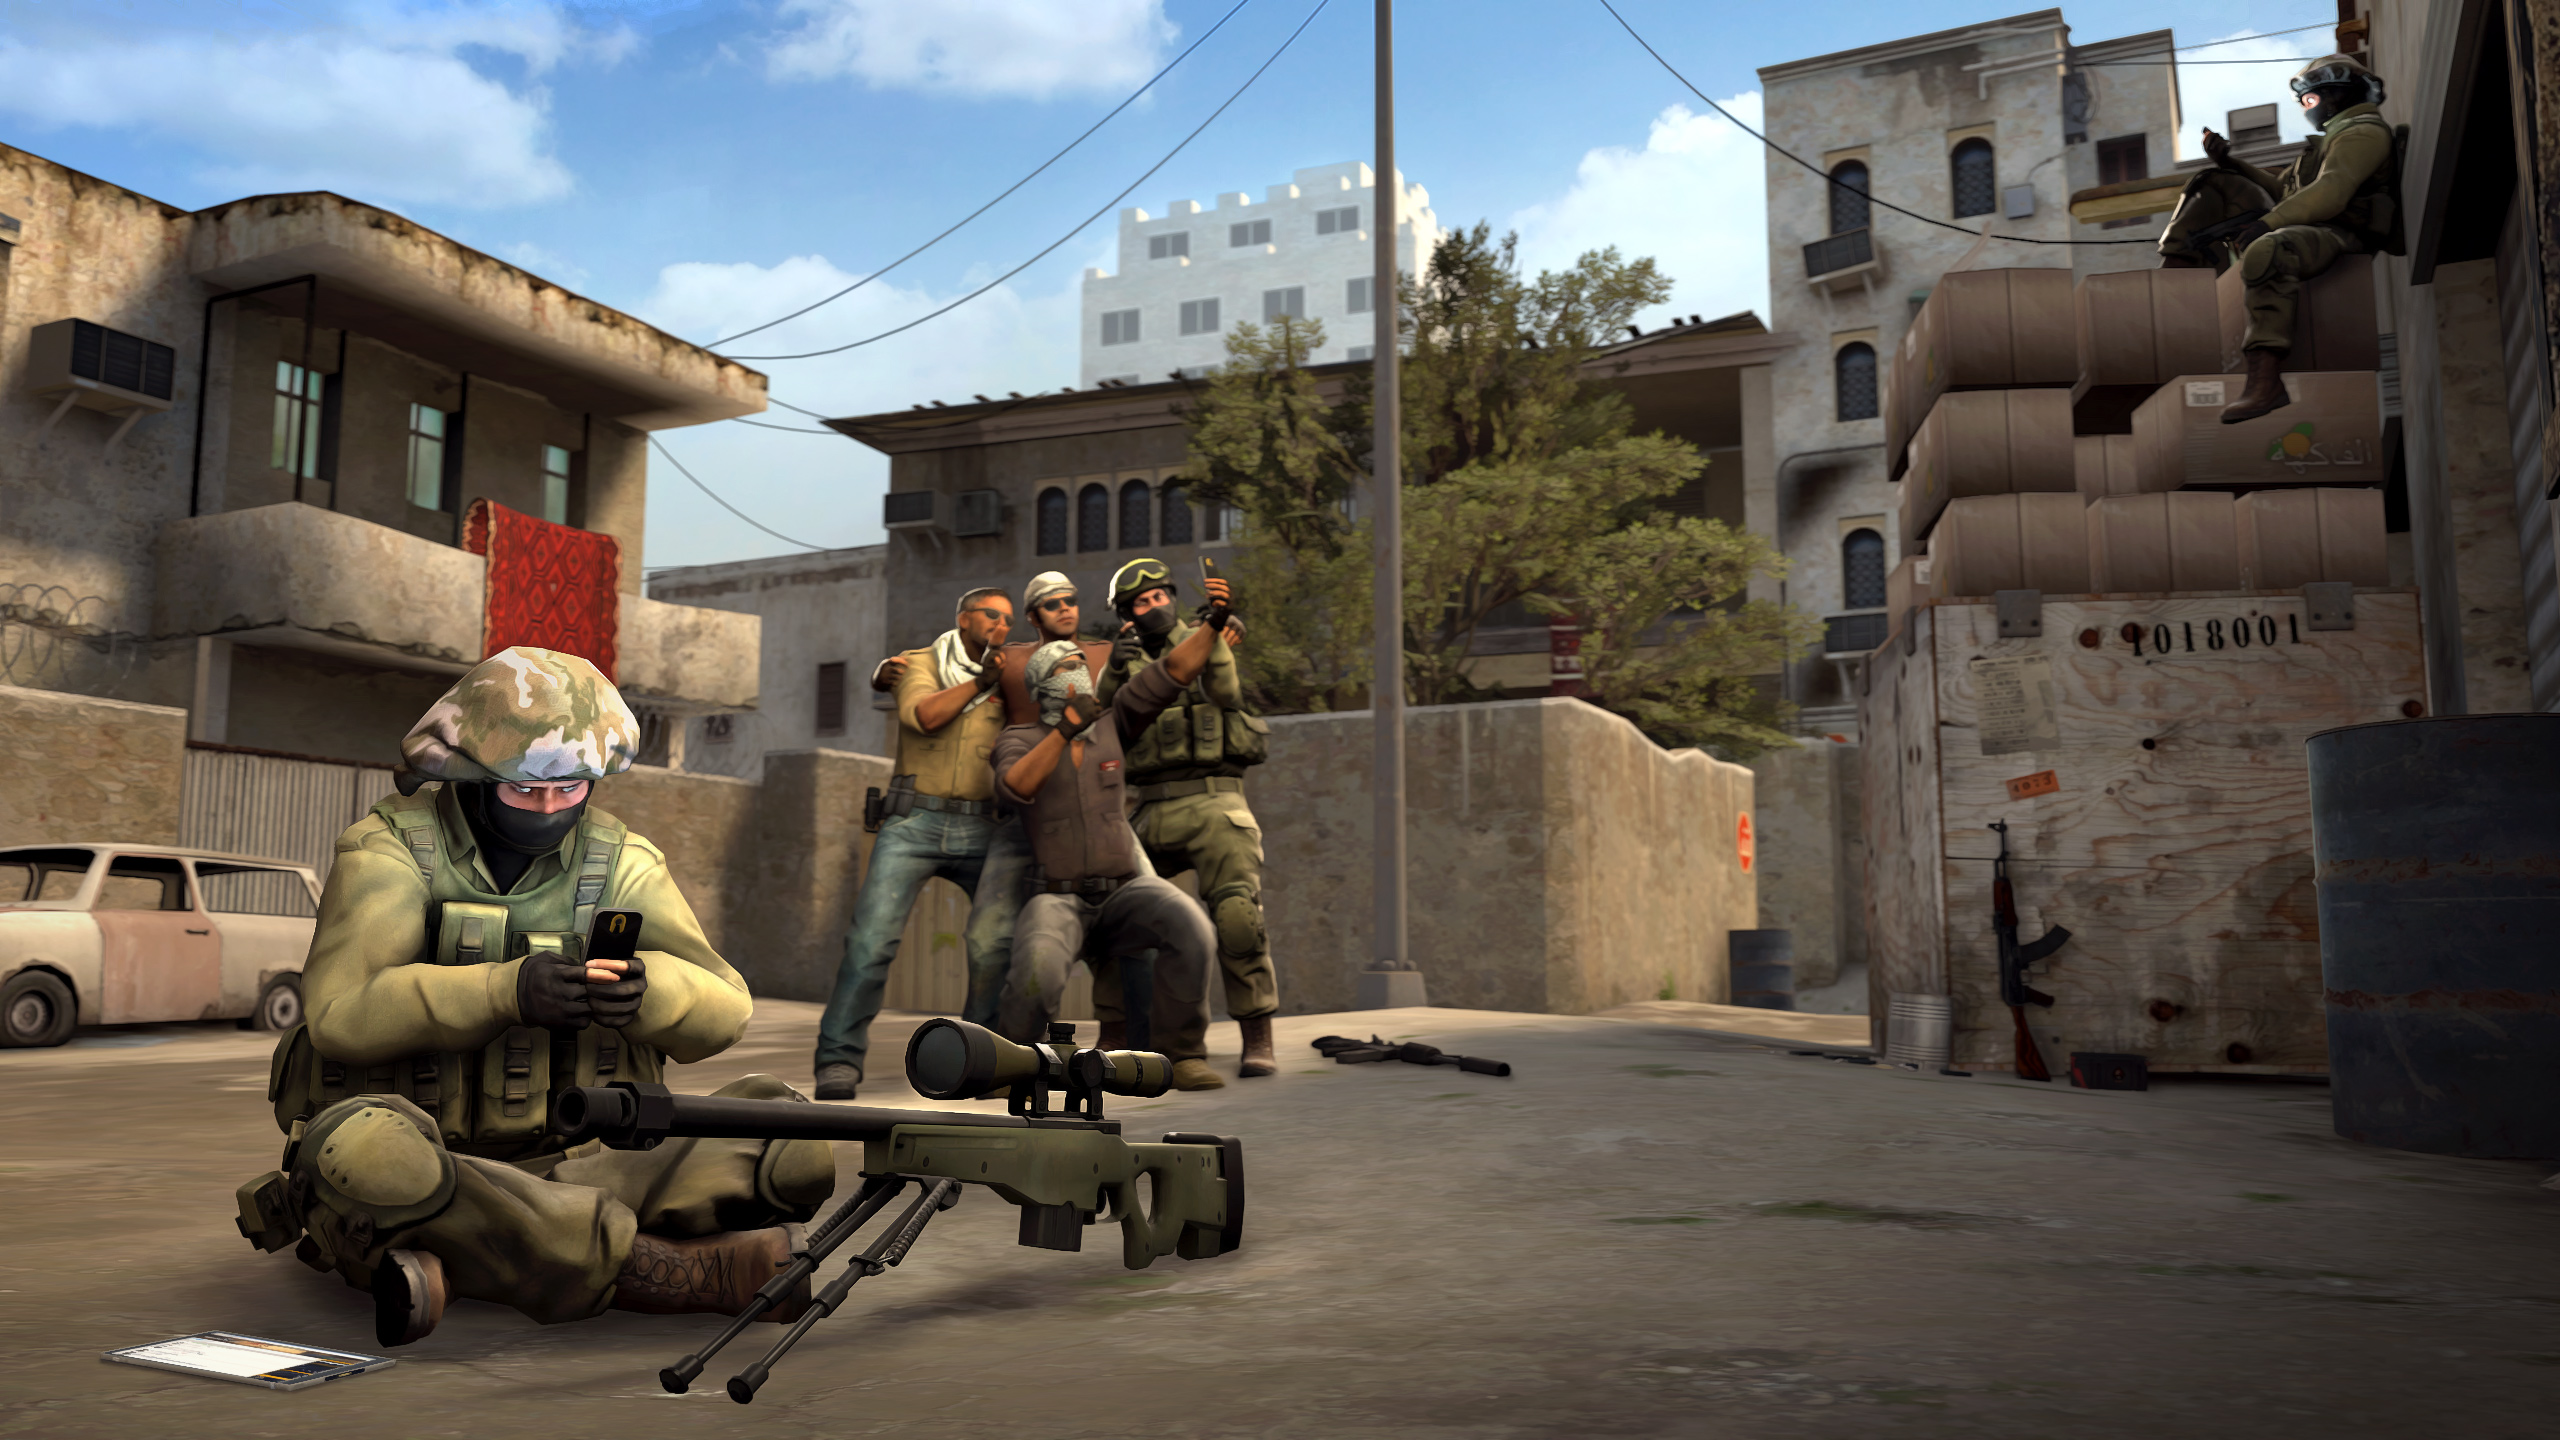ch: (411, 638, 642, 870), (1111, 556, 1190, 644)
th: (1030, 636, 1116, 710), (949, 585, 1025, 661), (1023, 566, 1087, 638)
